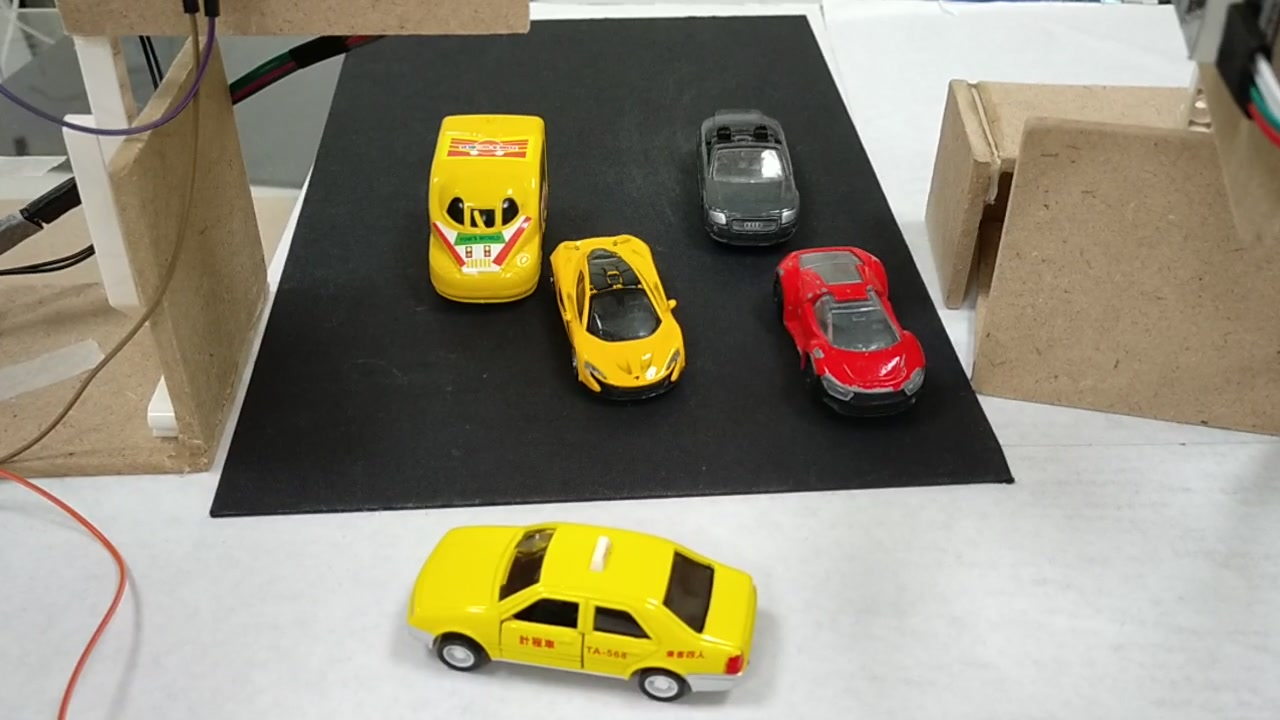car: (409, 524, 768, 711), (775, 247, 934, 414), (545, 236, 700, 401), (695, 109, 801, 242)
